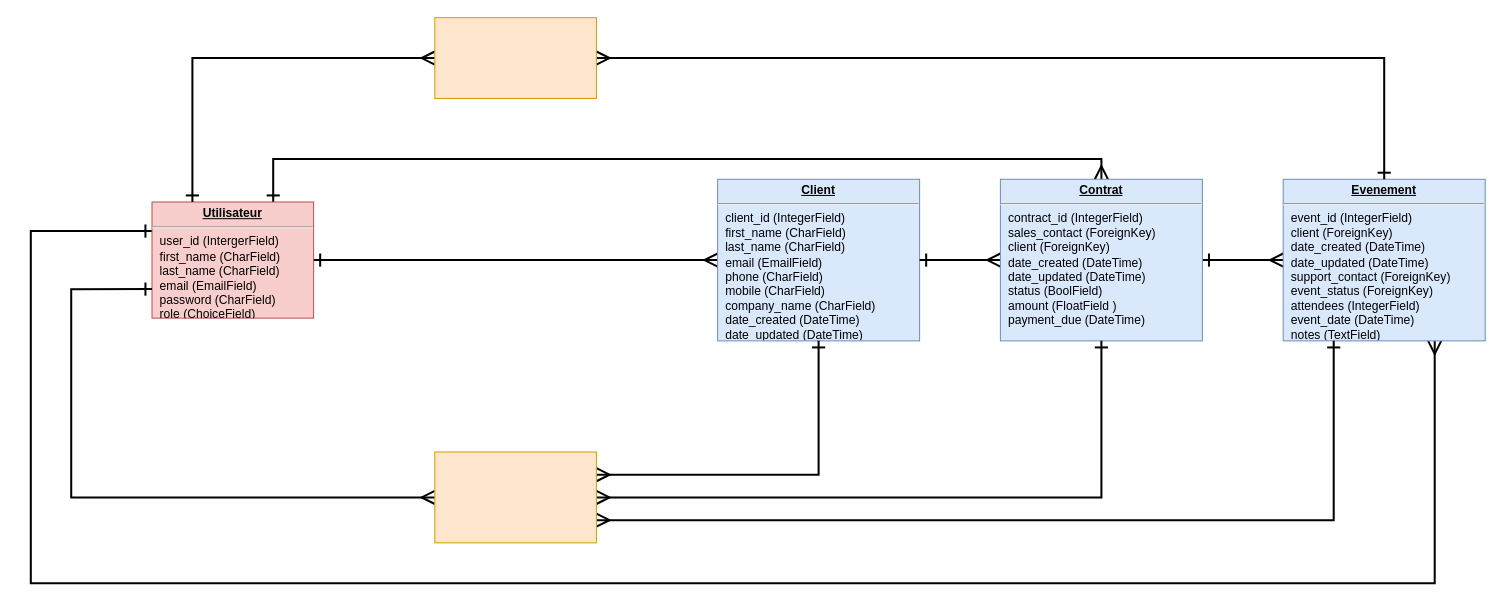
The diagram is 1503 pixels wide and 615 high, and some of its shapes have lost their labels. The shapes that lost their labels are listed below. From the top down, each one's box as (x1, y1, x2, y2) in pixels, then its label:
(434, 17, 596, 98): Support user_id (IntegerField) event_id (IntegerField)
(434, 451, 596, 543): Vendeur user_id (IntegerField) client_id (IntegerField)
